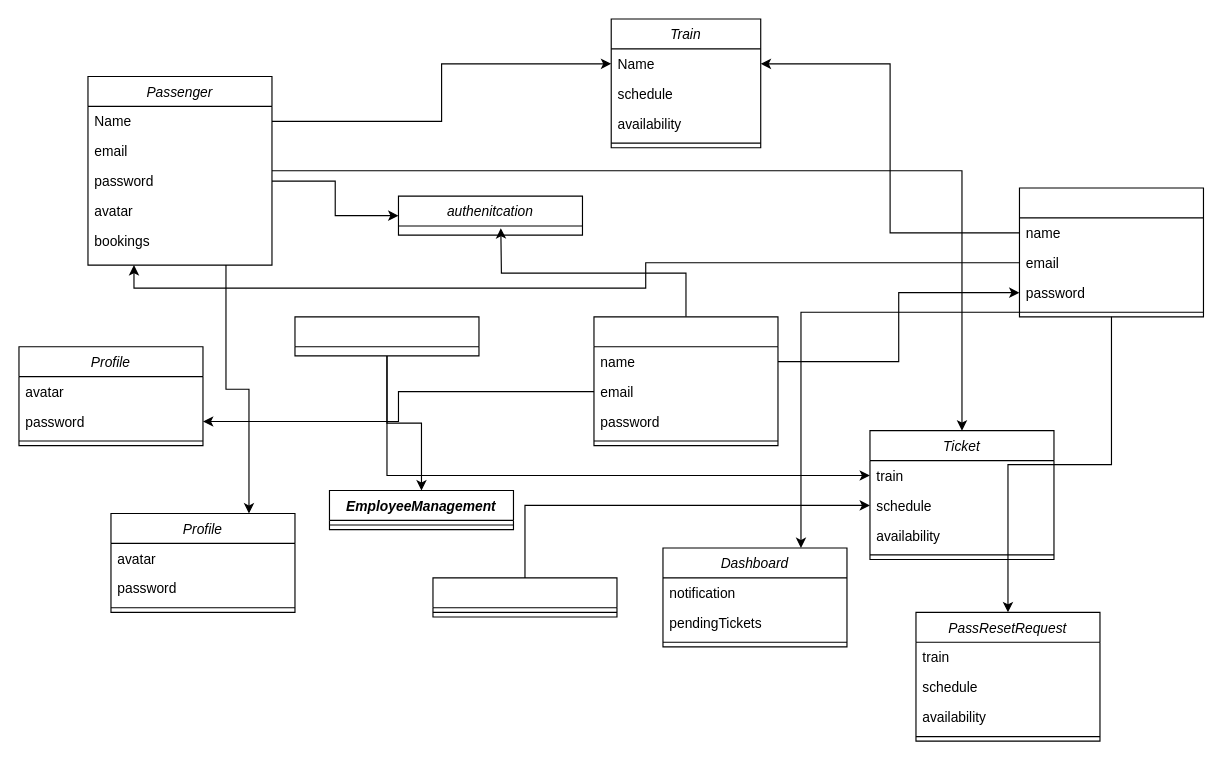
The diagram is 1222 pixels wide and 760 high, and some of its shapes have lost their labels. The box of each missing label's shape, as (x1, y1, x2, y2) in pixels:
Admin: (593, 316, 778, 446)
Employee: (1018, 187, 1203, 317)
TicketManagement: (432, 577, 617, 617)
Train Booking system: (294, 316, 479, 356)
